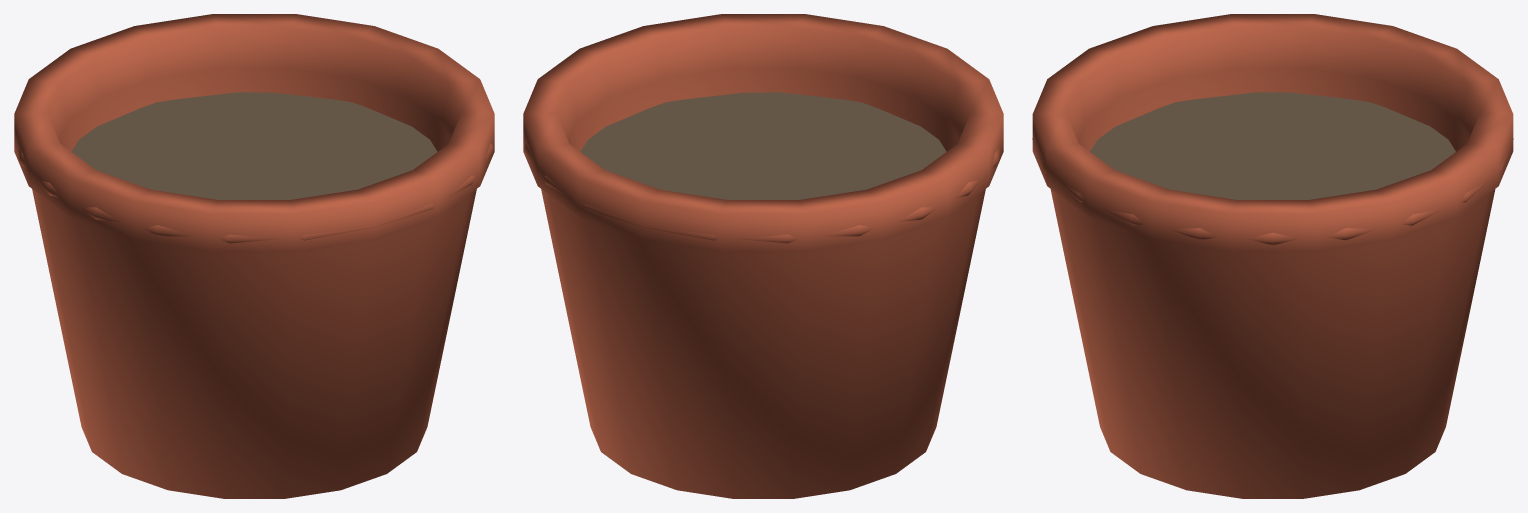
The model's file is almanac-gardens-terracotta-planter-1472f447.glb.
The picture shows the model from 3 angles, left to right: view 1: azimuth 30°, elevation 25°; view 2: azimuth 150°, elevation 25°; view 3: azimuth 270°, elevation 25°; orthographic projection.
Visible parts, largest first — view 1: terracotta-planter-clay, terracotta-planter-soil; view 2: terracotta-planter-clay, terracotta-planter-soil; view 3: terracotta-planter-clay, terracotta-planter-soil.
Boxes of the visible parts, <box> form: terracotta-planter-clay: <box>14,14,494,498</box>; terracotta-planter-soil: <box>71,92,437,199</box>; terracotta-planter-clay: <box>523,14,1003,498</box>; terracotta-planter-soil: <box>580,92,946,199</box>; terracotta-planter-clay: <box>1032,14,1513,498</box>; terracotta-planter-soil: <box>1090,92,1455,199</box>.
Size of the model in its own units: 0.6412 by 0.46 by 0.6412.
